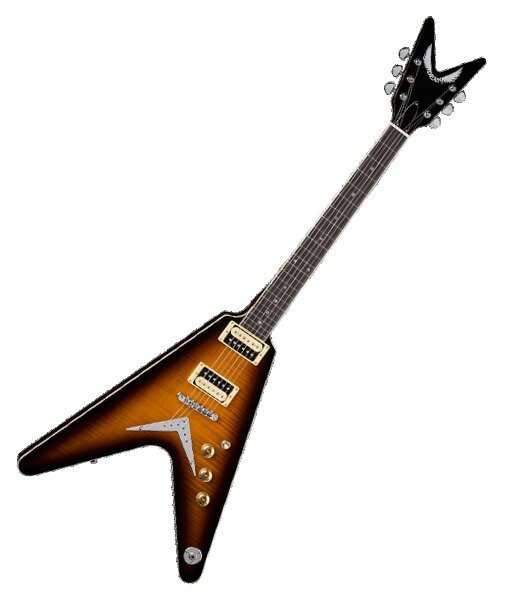ElectricGuitar: (15, 36, 482, 572)
